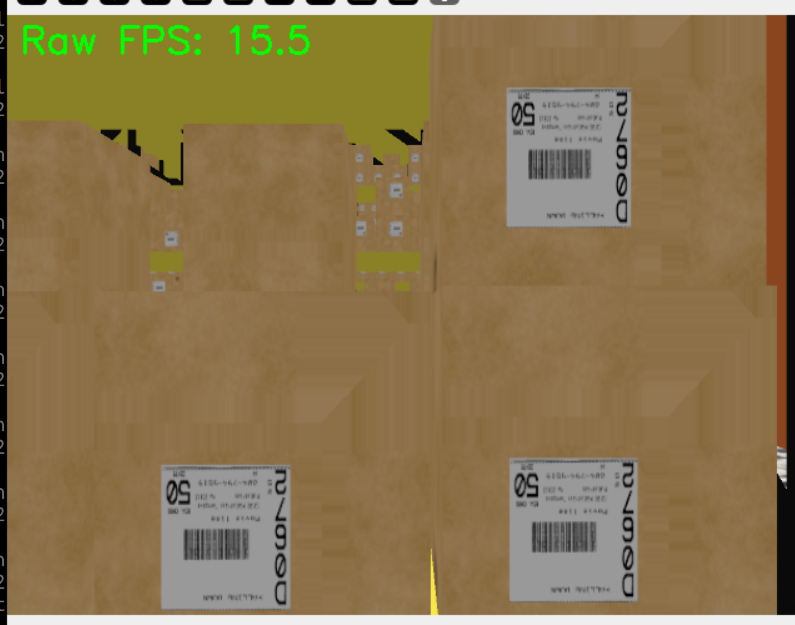barcode: (159, 462, 292, 611), (508, 456, 640, 603), (506, 85, 633, 230)
